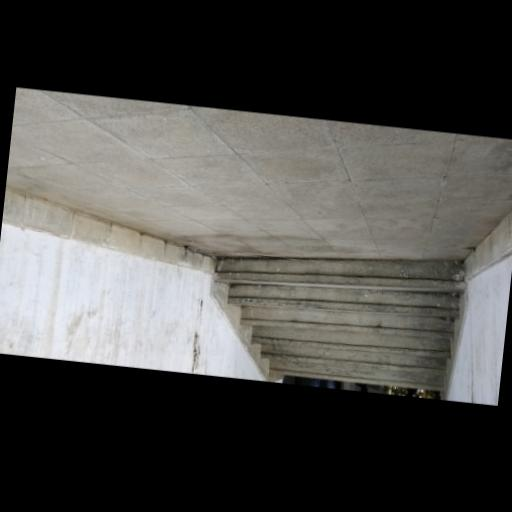stairs: (215, 257, 465, 389)
